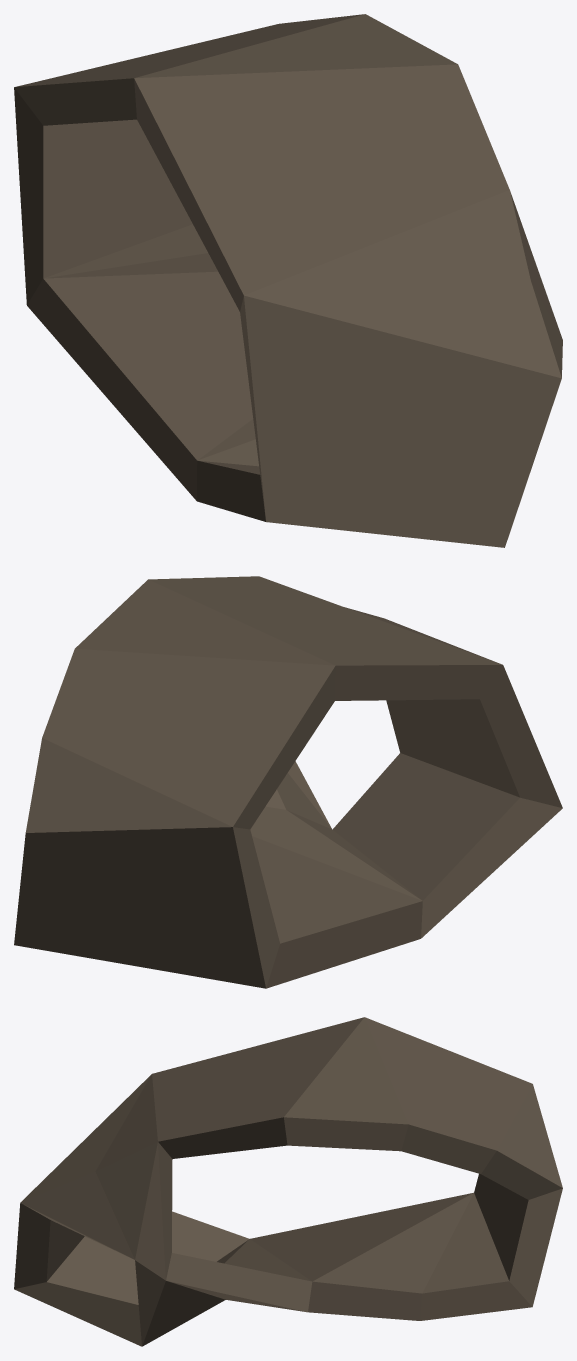
Rendered from Chr_HandLeft_Female_15_Drop.fbx.
3 renders of one model, top to bottom at view 1: azimuth 30°, elevation 25°; view 2: azimuth 150°, elevation 25°; view 3: azimuth 270°, elevation 25°, orthographic. The views are drawn at different scales.
Parts seen in each view (by area): view 1: Chr_HandLeft_Female_15_Static; view 2: Chr_HandLeft_Female_15_Static; view 3: Chr_HandLeft_Female_15_Static.
Part boxes in pixels (x1,y1,x2,y2): Chr_HandLeft_Female_15_Static: [14, 14, 562, 547]; Chr_HandLeft_Female_15_Static: [14, 576, 562, 988]; Chr_HandLeft_Female_15_Static: [14, 1017, 562, 1346].
Bounding box in the file's own units: 8.72 × 8.69 × 16.03.
